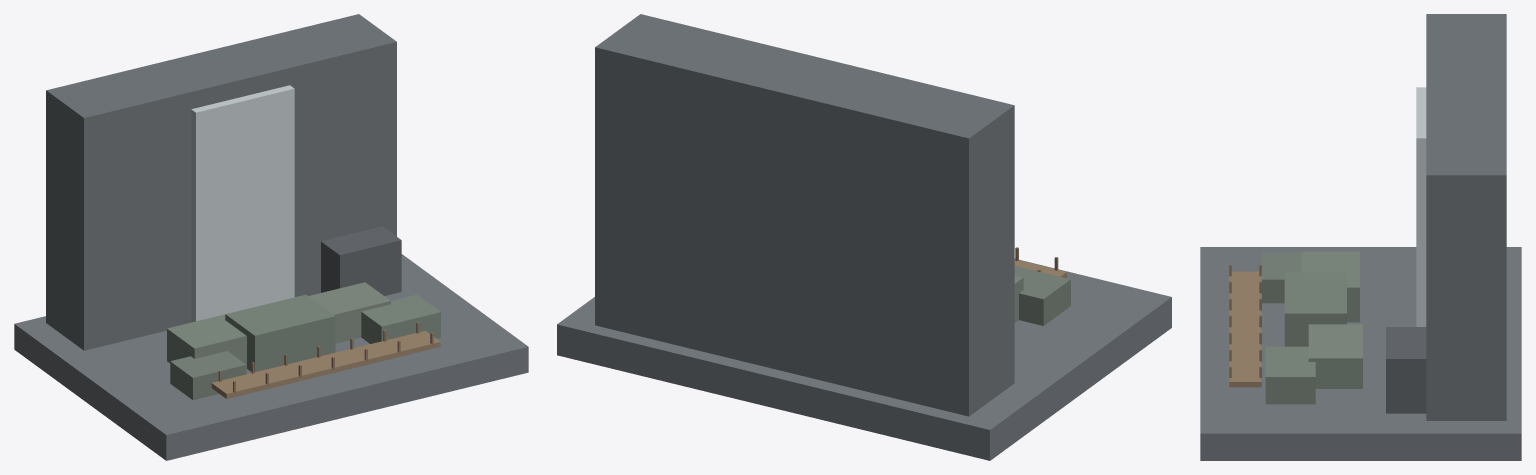
File: lm_121_thac_voi_lieng_rowoa_nam_ban_vach_da_bazan_voi_phuc_va_hang_doi.glb
3 views of the same model, side by side, from view 1: azimuth 30°, elevation 25°; view 2: azimuth 150°, elevation 25°; view 3: azimuth 270°, elevation 25° (orthographic). The views are drawn at different scales.
Visible parts, largest first — view 1: lm_121; view 2: lm_121; view 3: lm_121.
Part boxes in pixels (left/top/right/bottom): lm_121: left=14, top=14, right=528, bottom=460; lm_121: left=557, top=14, right=1171, bottom=460; lm_121: left=1200, top=14, right=1521, bottom=460.
Bounding box in the file's own units: 44 × 30 × 32.
